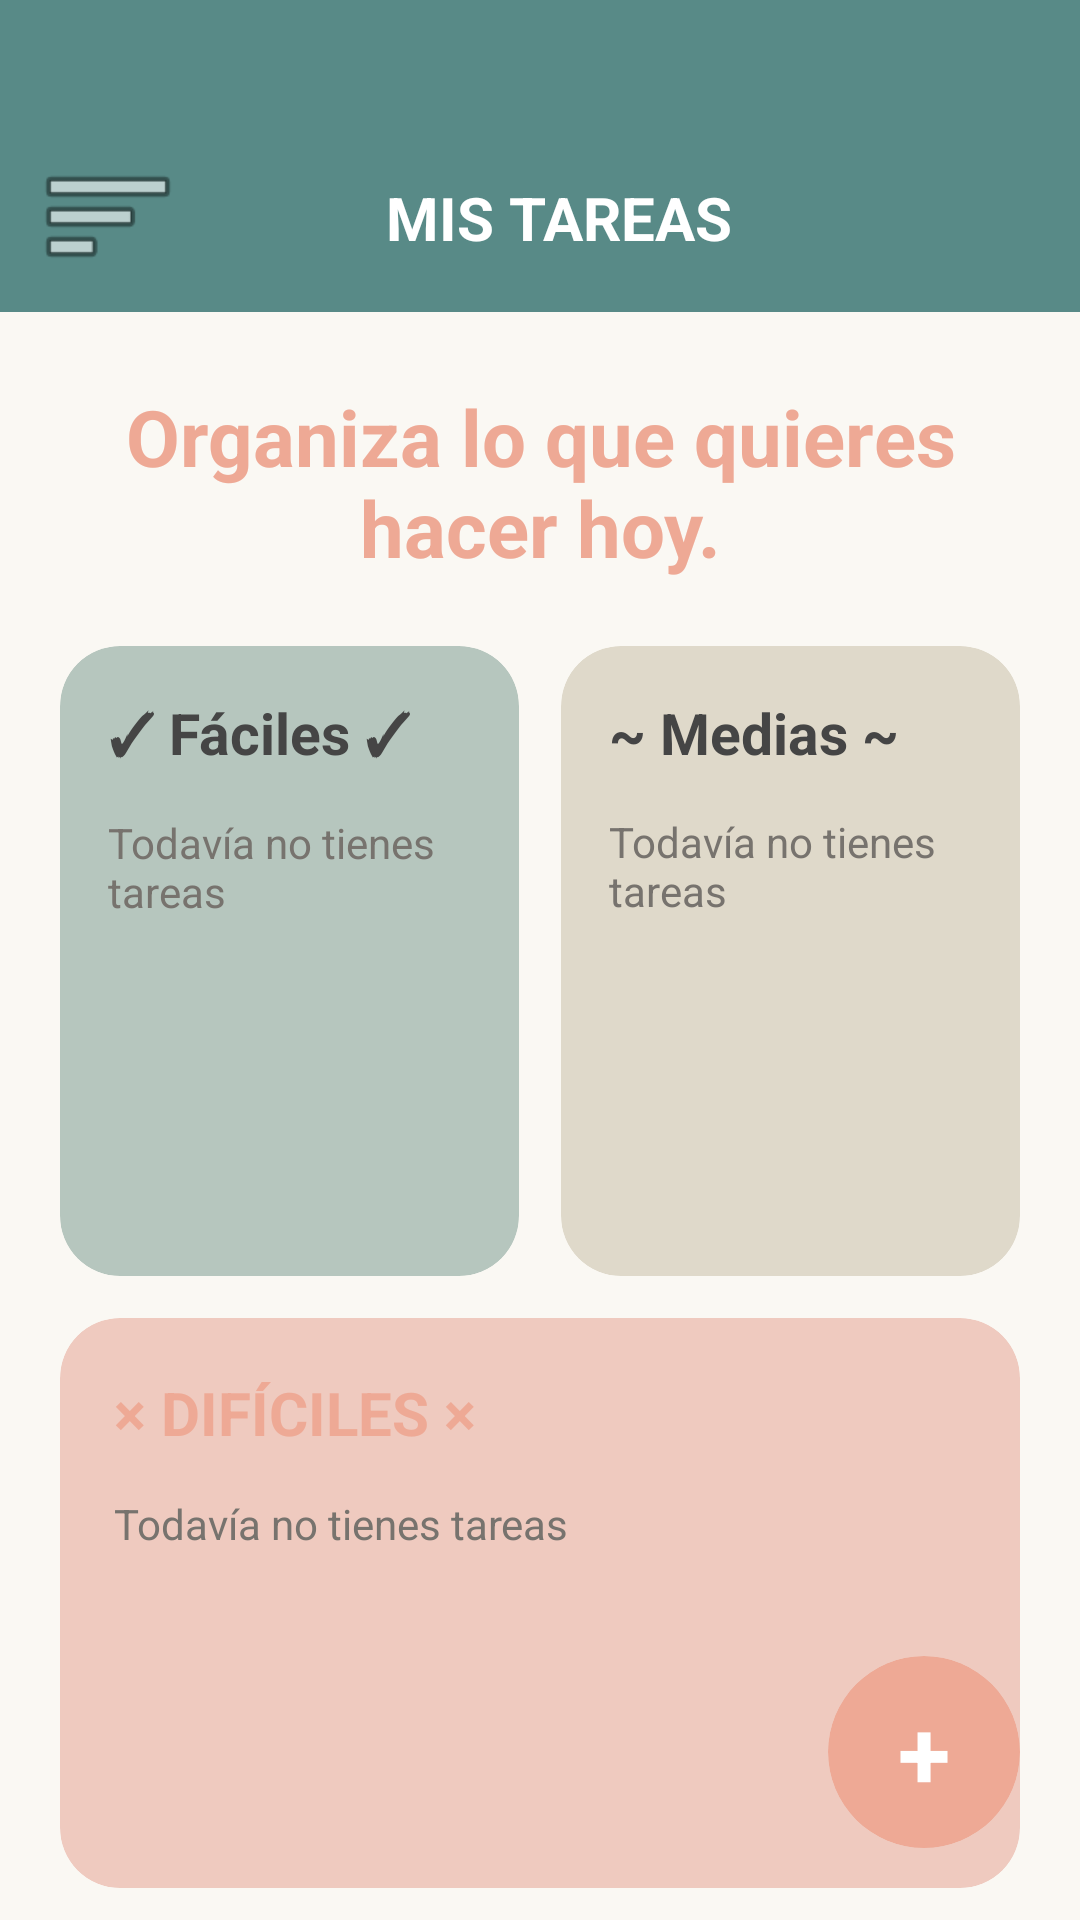

Named icons in this screenshot (1080x1920) and their bounding boxes, region(x1, y1, x2, y2):
Abrir menú: region(46, 177, 170, 257)
